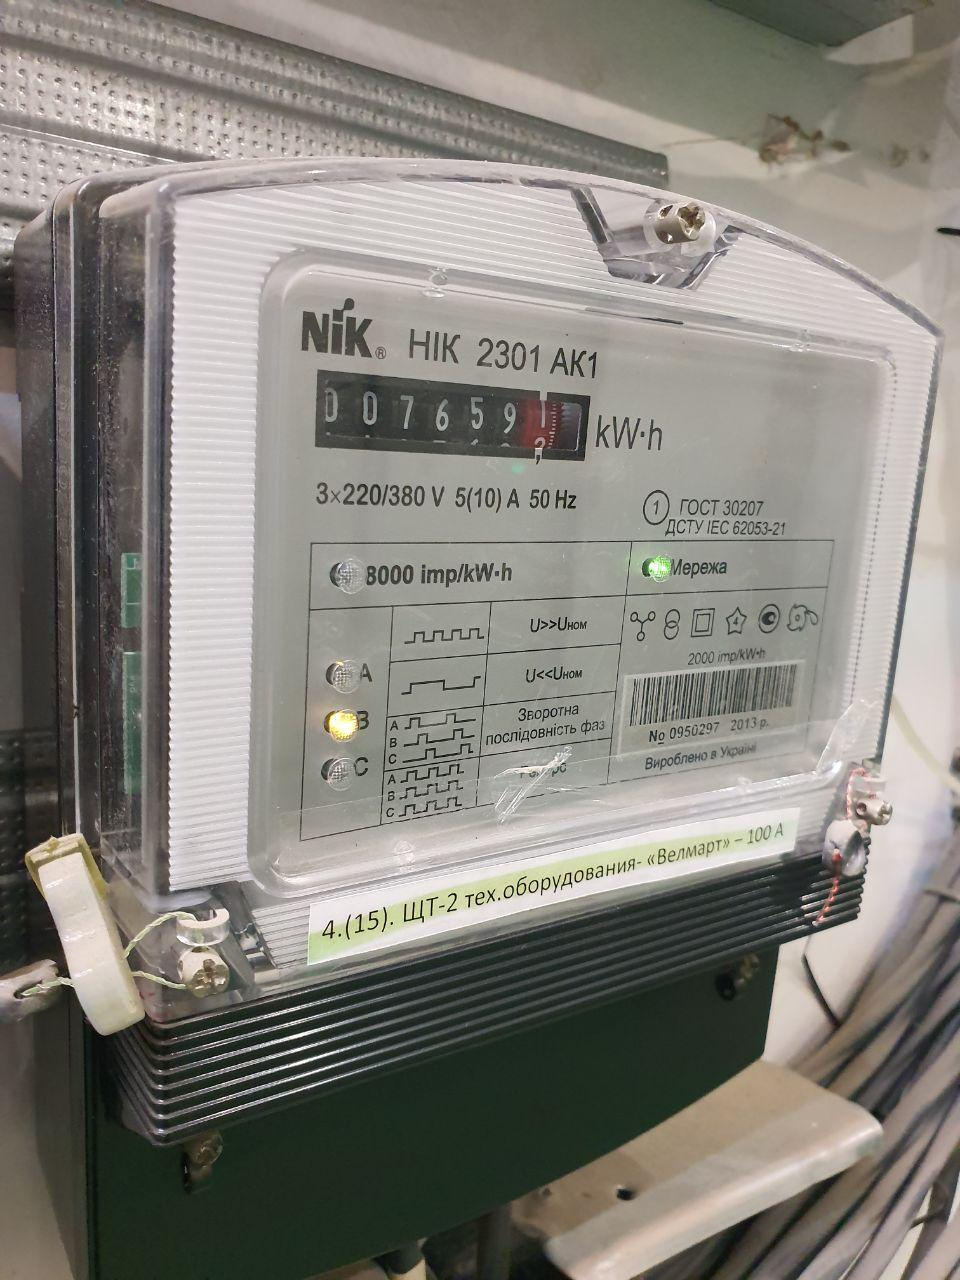0: (358, 387, 382, 428), (319, 384, 342, 425)
1: (535, 399, 552, 432)
5: (467, 394, 487, 432)
6: (432, 395, 453, 434)
7: (397, 392, 416, 432)
9: (501, 400, 518, 437)
screen: (306, 361, 599, 480)
